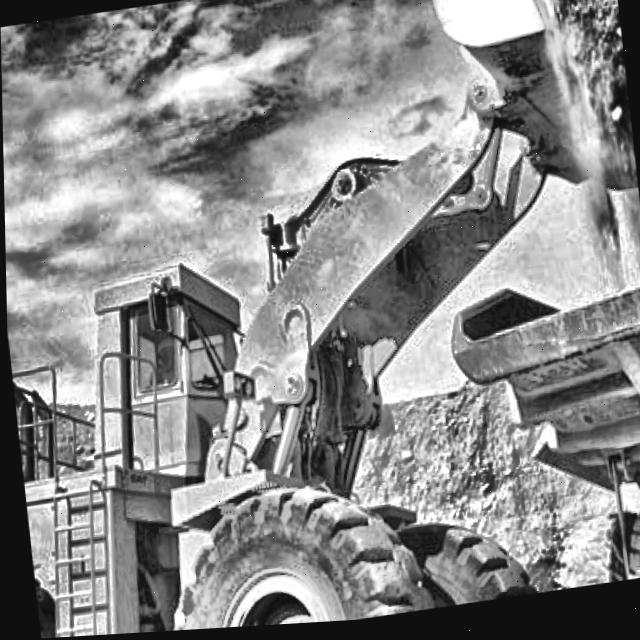buldozerpayloadergrader: (0, 0, 640, 640)
dump_truck: (437, 192, 640, 608)
